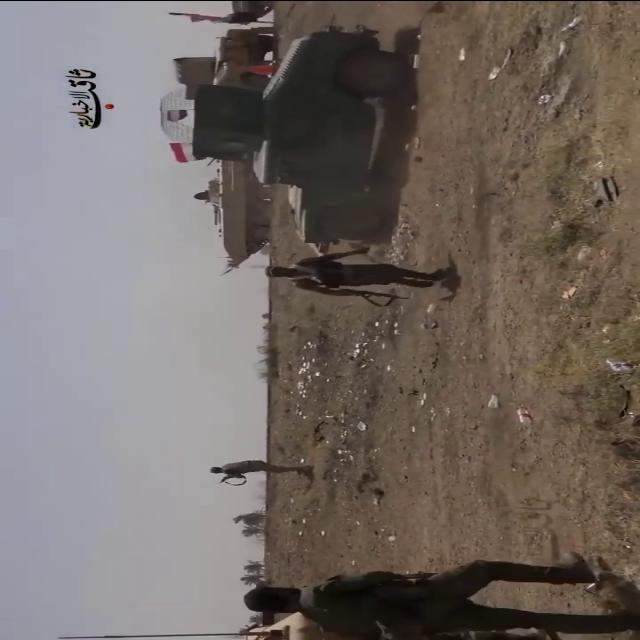long weapon: (329, 284, 418, 312)
